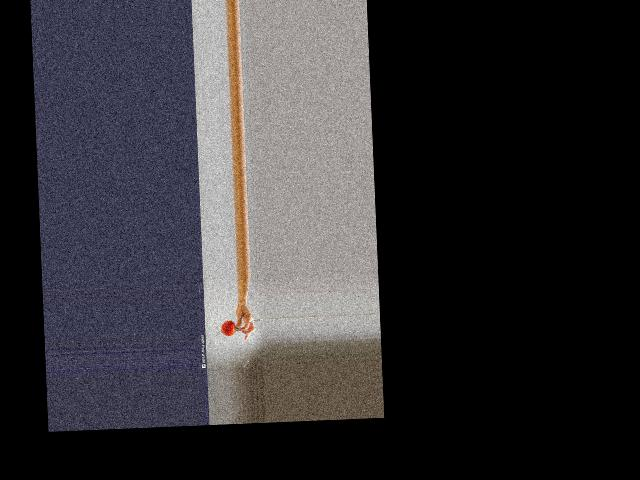tomato: (220, 319, 235, 335)
